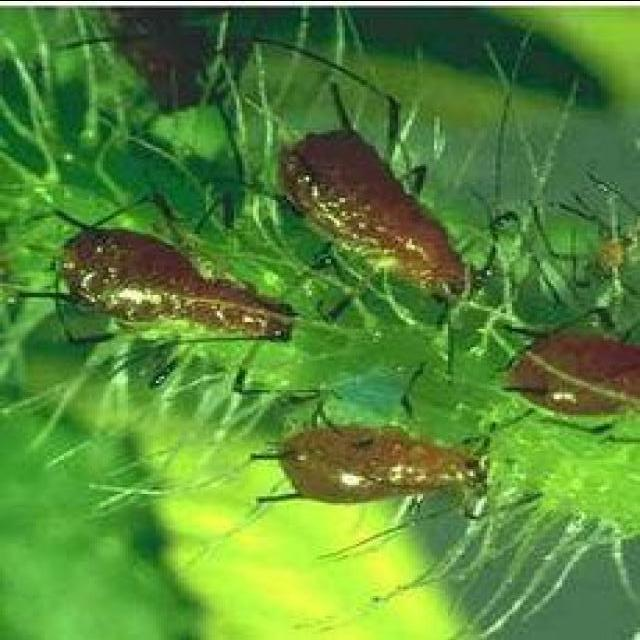aphid: (278, 121, 480, 306), (251, 417, 518, 546), (42, 216, 296, 351), (77, 4, 256, 106), (509, 332, 640, 426)
